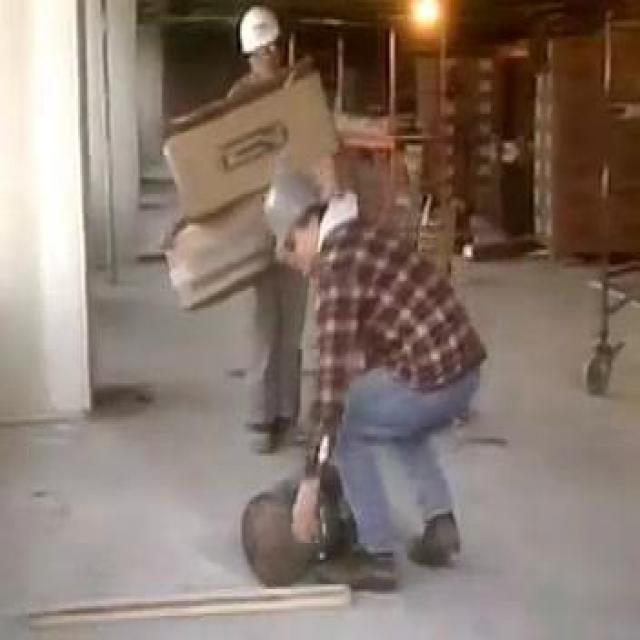safety_helmet: (225, 0, 292, 68)
